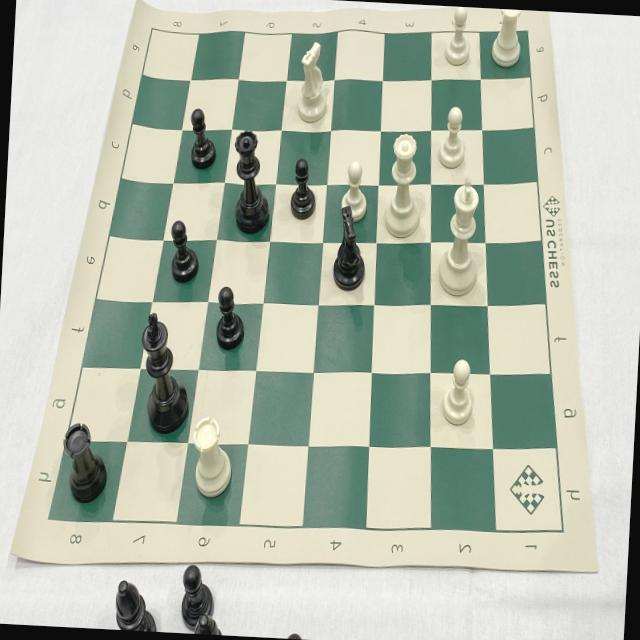black-king: (133, 310, 194, 440)
black-knight: (328, 207, 372, 295)
black-pawn: (165, 218, 203, 287), (212, 282, 248, 354), (286, 154, 321, 226), (188, 105, 220, 172)
black-queen: (227, 124, 277, 240)
black-rook: (60, 416, 110, 508)
white-king: (436, 172, 488, 298)
white-knight: (295, 38, 332, 128)
white-pawn: (440, 356, 481, 431), (435, 102, 471, 172), (338, 158, 373, 224), (442, 7, 476, 68)
white-queen: (378, 130, 429, 242)
white-rook: (190, 411, 237, 502), (486, 9, 528, 74)
